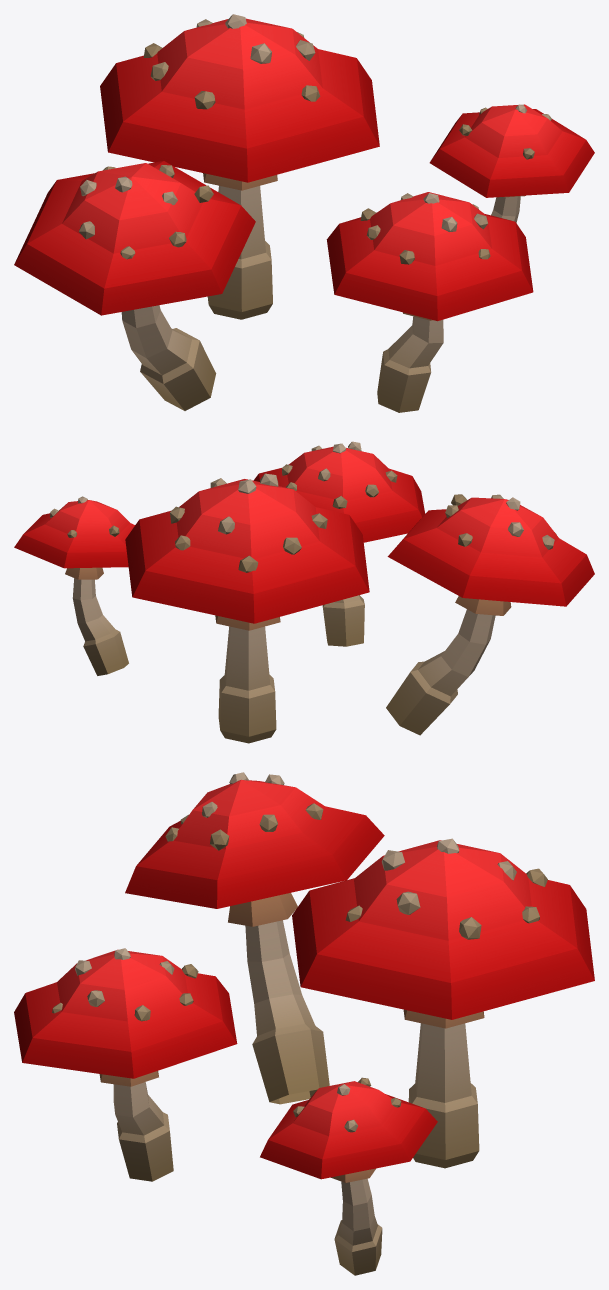
The model's file is Mushroom_Red_Clump_02.fbx.
3 views of the same model, one above another, from view 1: azimuth 30°, elevation 25°; view 2: azimuth 150°, elevation 25°; view 3: azimuth 270°, elevation 25° (orthographic). The views are drawn at different scales.
Visible parts, largest first — view 1: Mushroom_Red_Clump_02; view 2: Mushroom_Red_Clump_02; view 3: Mushroom_Red_Clump_02.
Part boxes in pixels (left/top/right/bottom): Mushroom_Red_Clump_02: left=14, top=14, right=594, bottom=412; Mushroom_Red_Clump_02: left=14, top=441, right=594, bottom=743; Mushroom_Red_Clump_02: left=14, top=772, right=594, bottom=1275.
Size of the model in its own units: 67.86 by 33.59 by 53.08.
